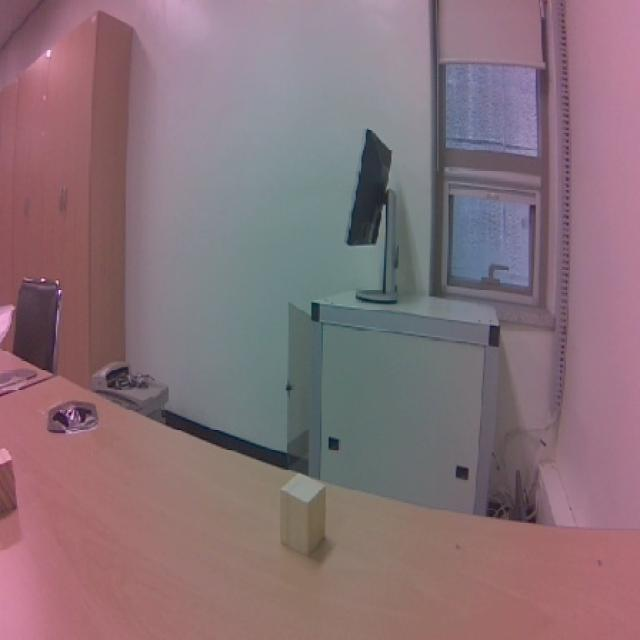obstacle: (278, 466, 337, 564)
